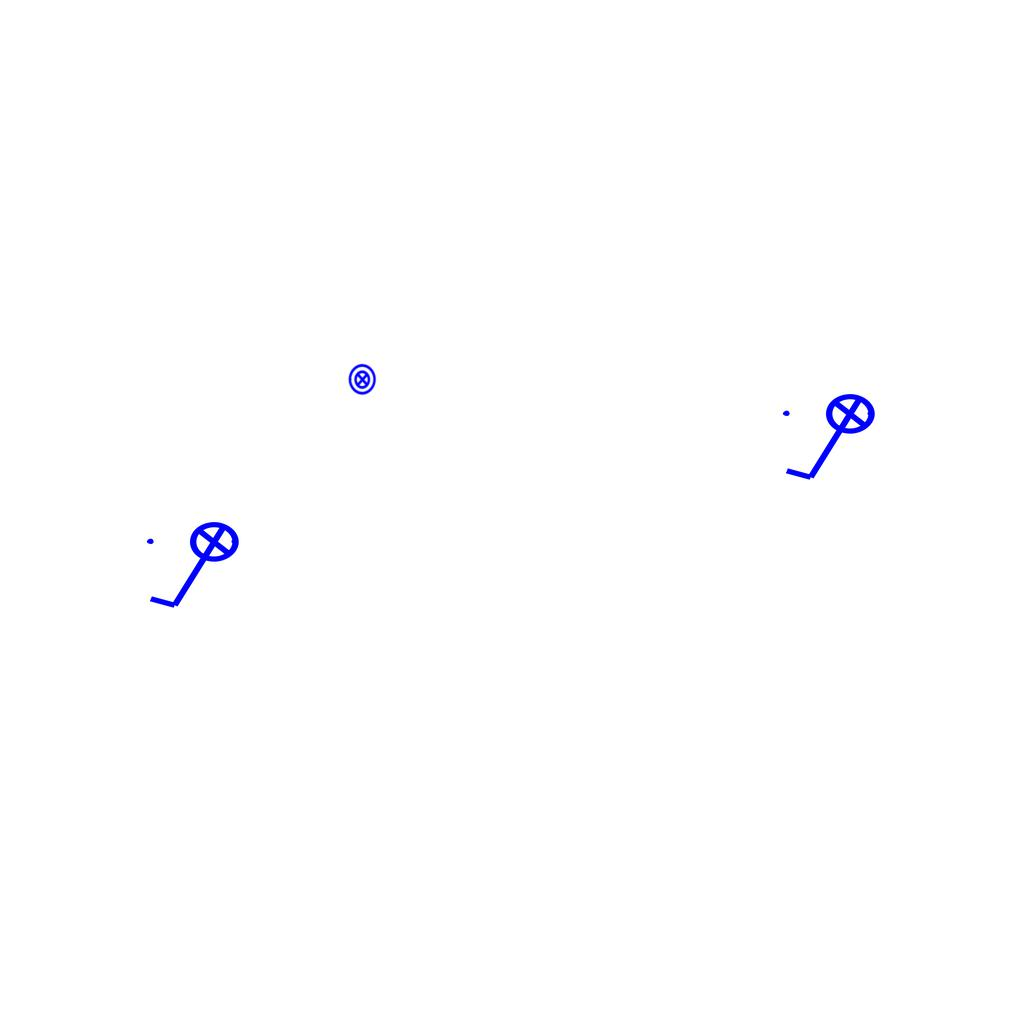Ausschalter_beleuchtet: (777, 392, 889, 488), (141, 520, 253, 616)
Taster_beleuchtet: (346, 363, 379, 396)
